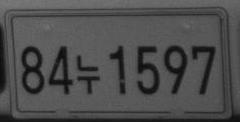1: (106, 44, 132, 95)
4: (48, 44, 73, 95)
5: (135, 45, 160, 95)
7: (190, 44, 217, 95)
8: (20, 44, 44, 94)
9: (163, 44, 188, 94)
누: (76, 54, 100, 94)
